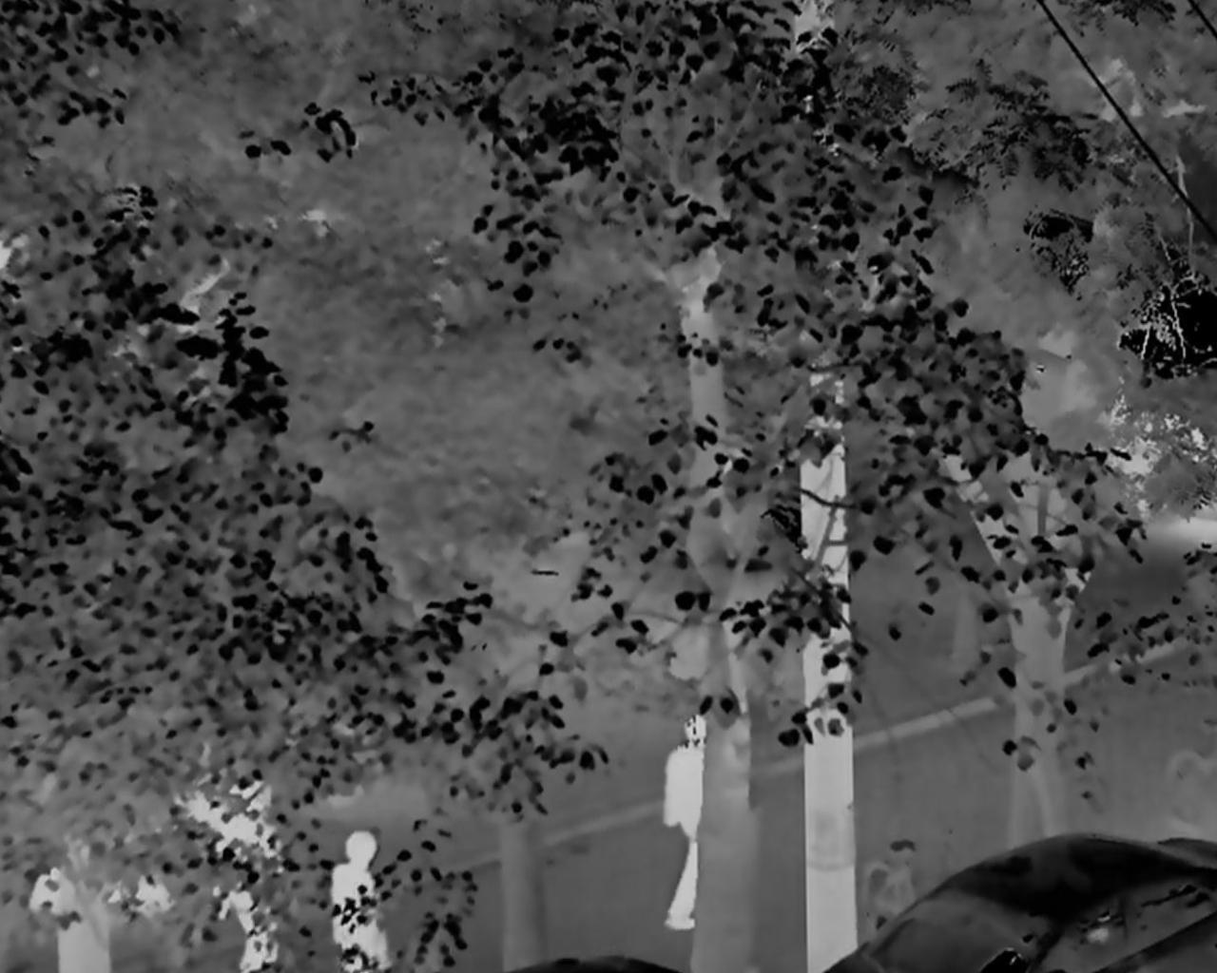person: (660, 714, 713, 931), (332, 828, 395, 973)
